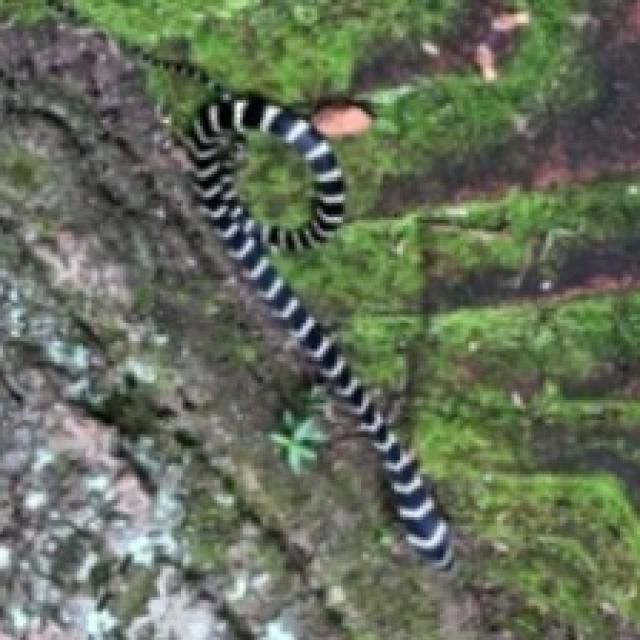king cobra: (189, 94, 451, 566), (189, 97, 451, 566), (231, 126, 314, 229), (231, 129, 314, 229)
